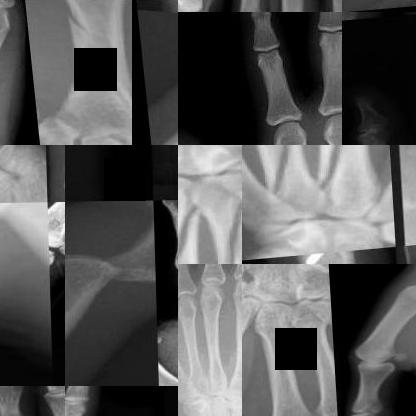fracture: (29, 0, 131, 119), (299, 145, 377, 201), (242, 145, 307, 207), (204, 195, 241, 263), (178, 201, 213, 264), (0, 161, 32, 204), (273, 252, 364, 263)
